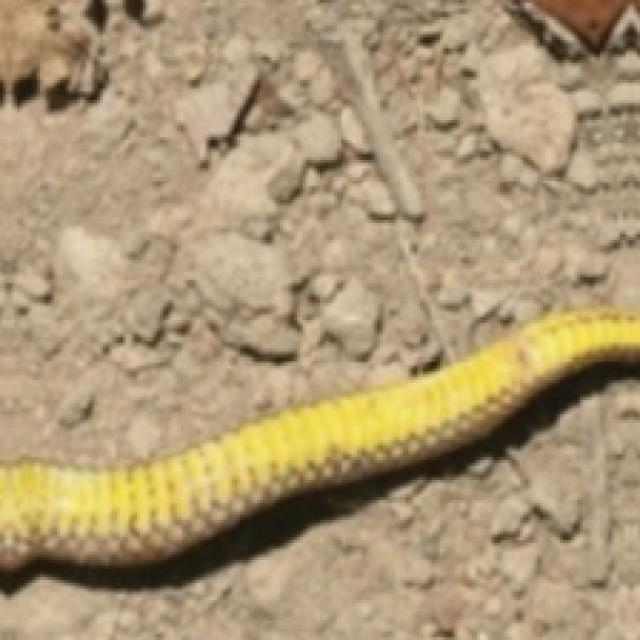gervais worm snake: (0, 309, 637, 569)
